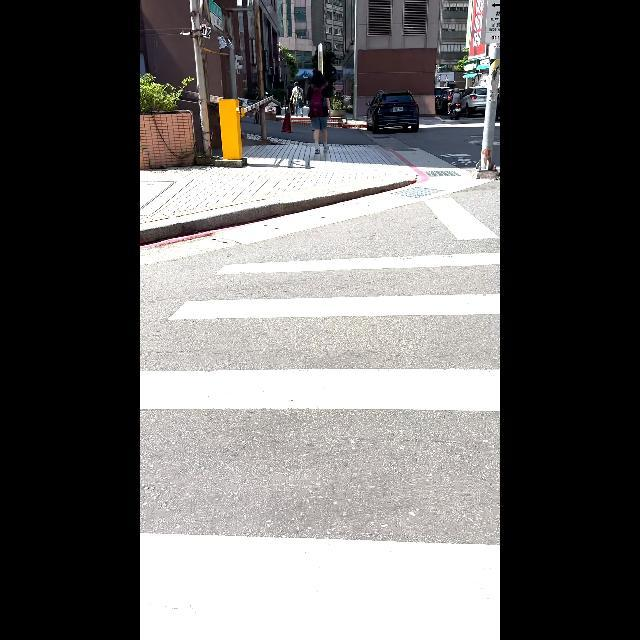sidewalk: (141, 252, 499, 639)
